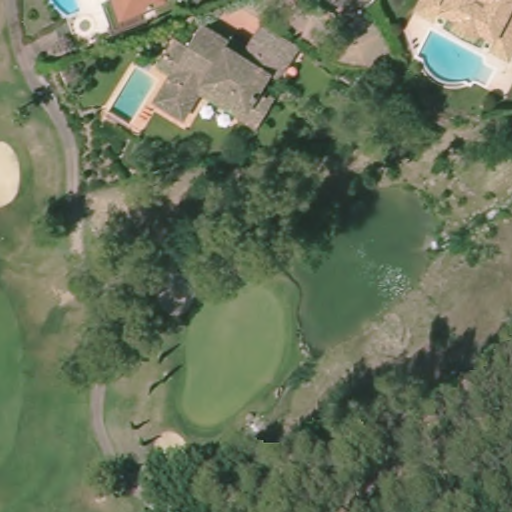pool: (410, 28, 497, 92), (106, 66, 155, 127), (48, 1, 81, 17)
